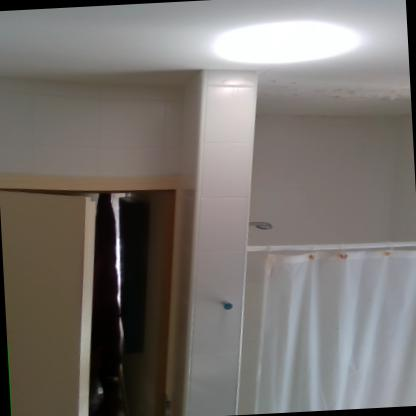closed: (242, 212, 415, 414)
semi: (0, 149, 201, 415)
